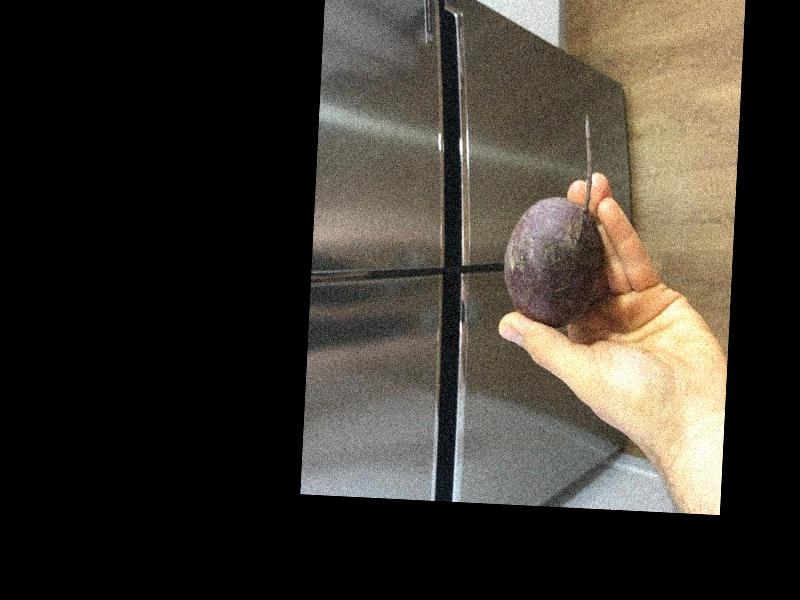Beet: (500, 110, 609, 328)
